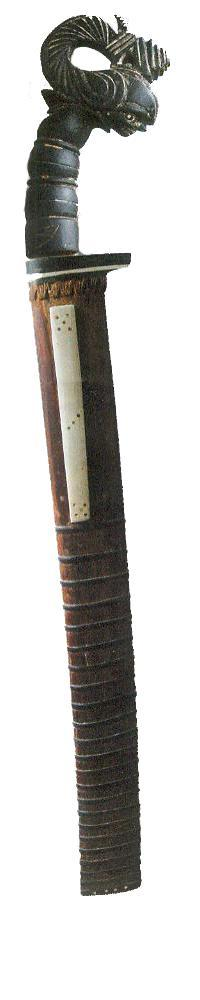facao: (26, 16, 168, 894)
